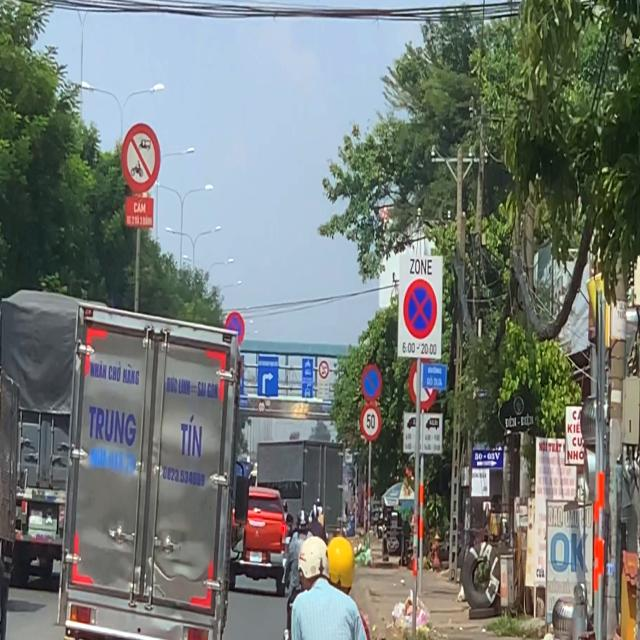Cam con lai: (122, 124, 161, 194), (319, 360, 329, 380)
Cam do: (359, 364, 384, 403)
Cam dung va do: (400, 278, 438, 342), (224, 311, 245, 346)
Toc do toi da: (361, 404, 382, 440)
